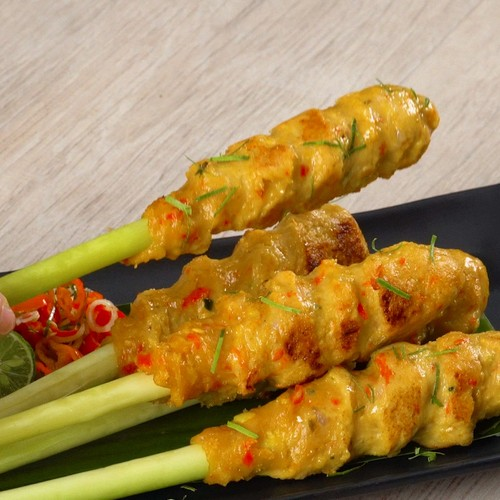sate languan: (125, 240, 499, 465), (155, 78, 446, 236)
